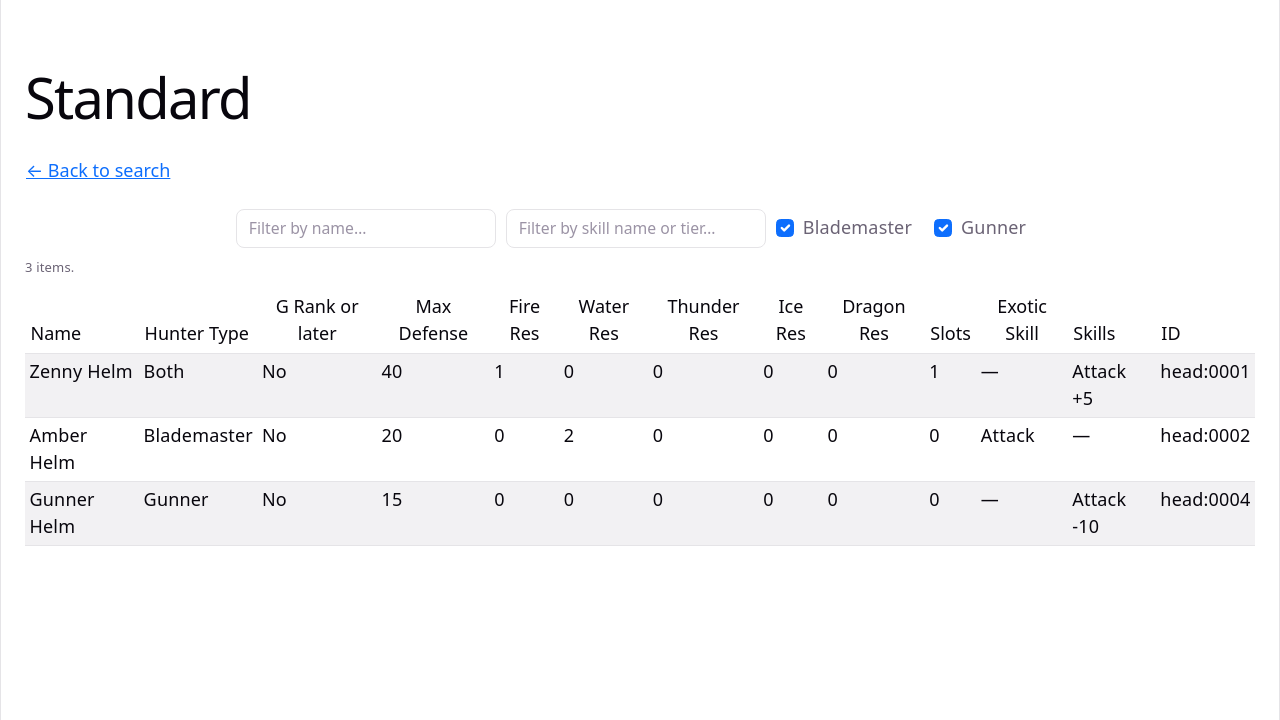
CategoryTablePage › unchecking Gunner hides gunner-only pieces but keeps common and blademaster pieces
Click the checkbox labelled "Gunner": [943, 228] box x1=934 y1=218 x2=952 y2=236
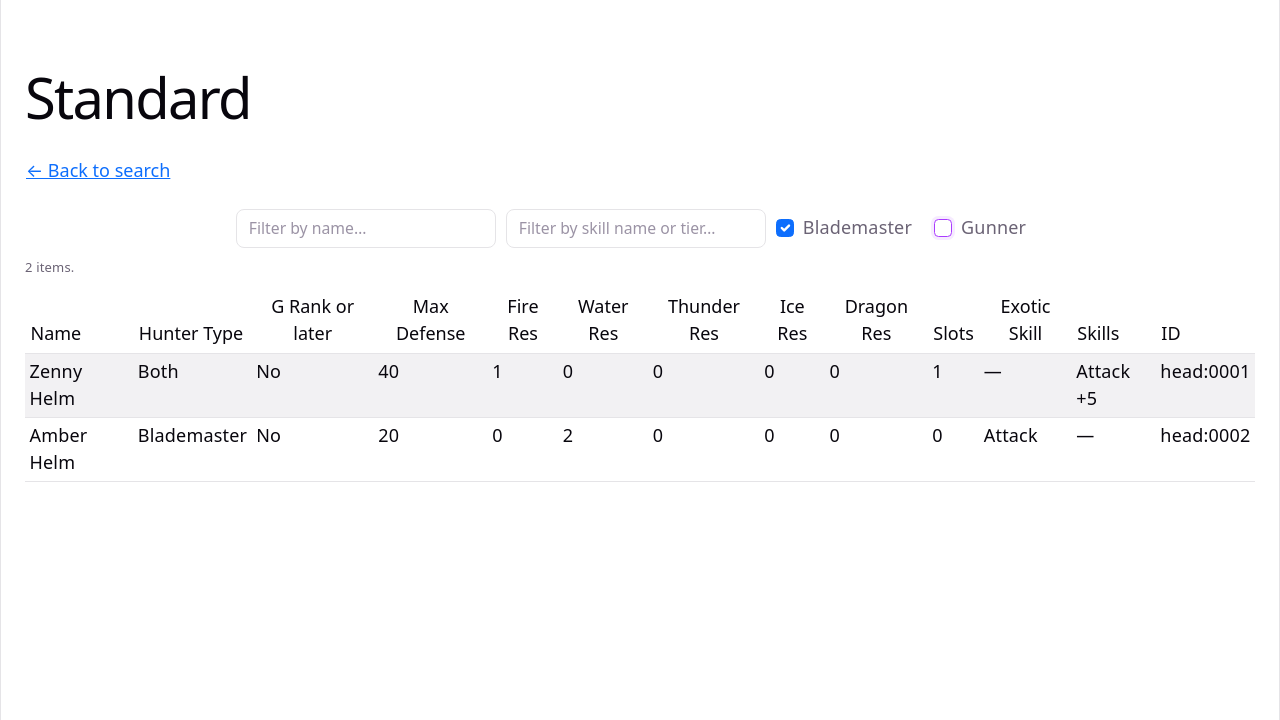
Expected: the text "Zenny Helm" is shown, x1=25 y1=354 x2=133 y2=418
Expected: the text "Gunner Helm" is gone
